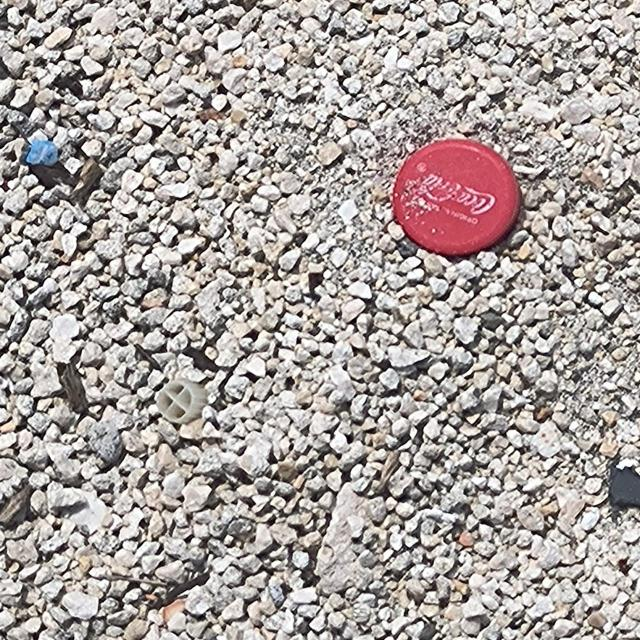plastic_waste: (389, 138, 520, 260)
